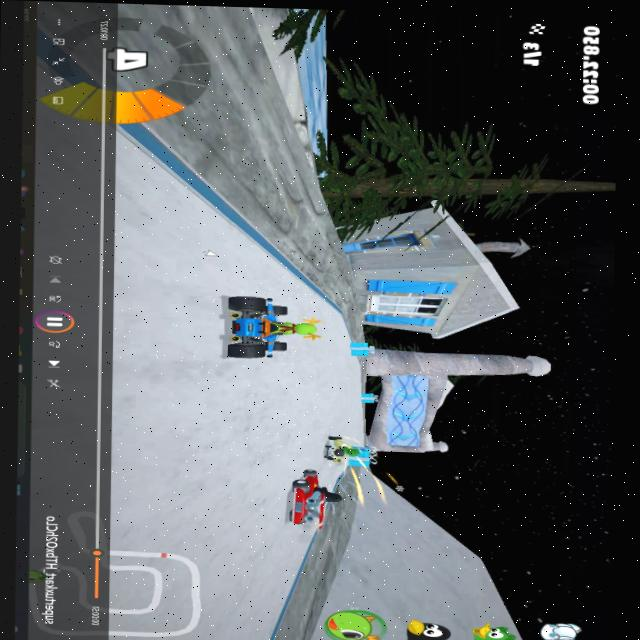bonus: (339, 445, 376, 467), (342, 339, 372, 356), (360, 391, 378, 408)
enemy_kart: (274, 466, 343, 528)
player_kart: (208, 294, 319, 360)
